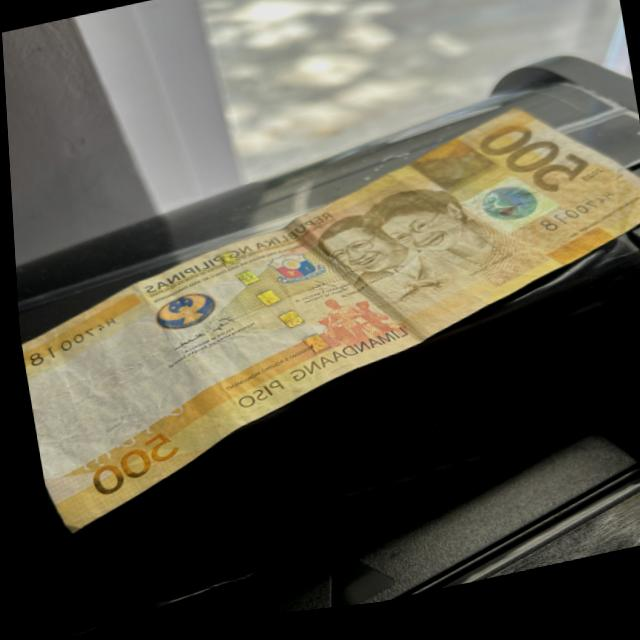concealed_value: (414, 148, 485, 203)
optically_variable_device: (473, 183, 541, 241)
watermark: (16, 314, 184, 473)
